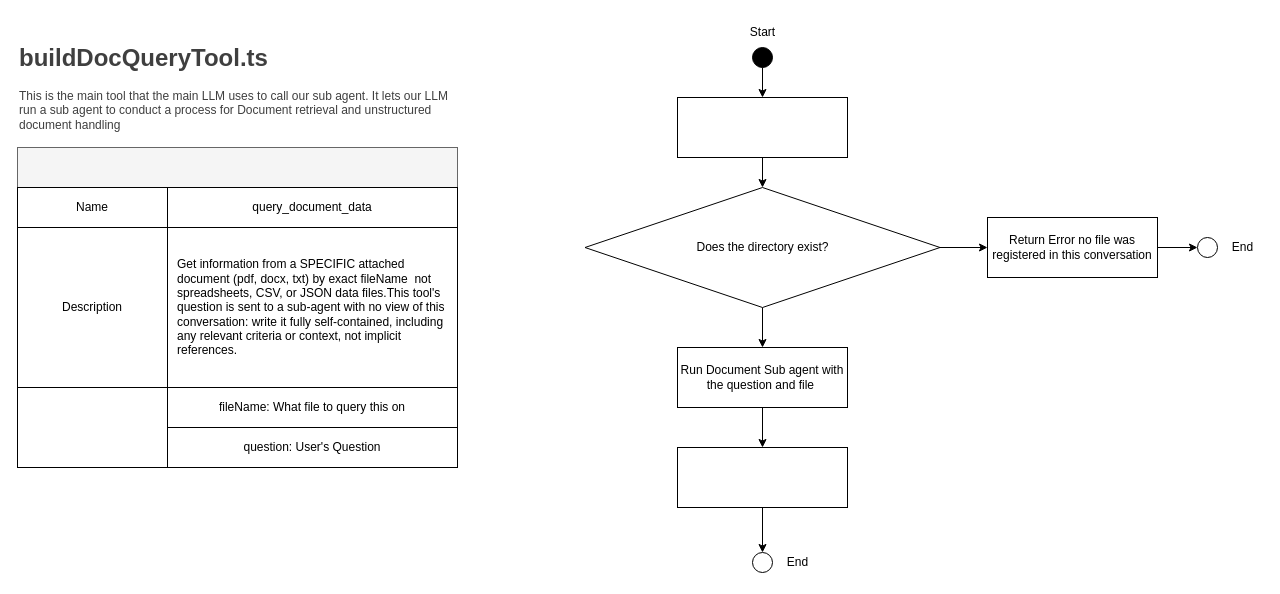
Some shapes in this 1280 by 594 pixel diagram are drawn without their labels. Here are the shapes that lost their labels. From the top down, the centre of each, then its label:
At point 762,127: "Get the full file directory using file name".
At point 237,167: "Tool Meta Data".
At point 92,427: "Parameters".
At point 762,477: "Return sub agent answer to main model".
